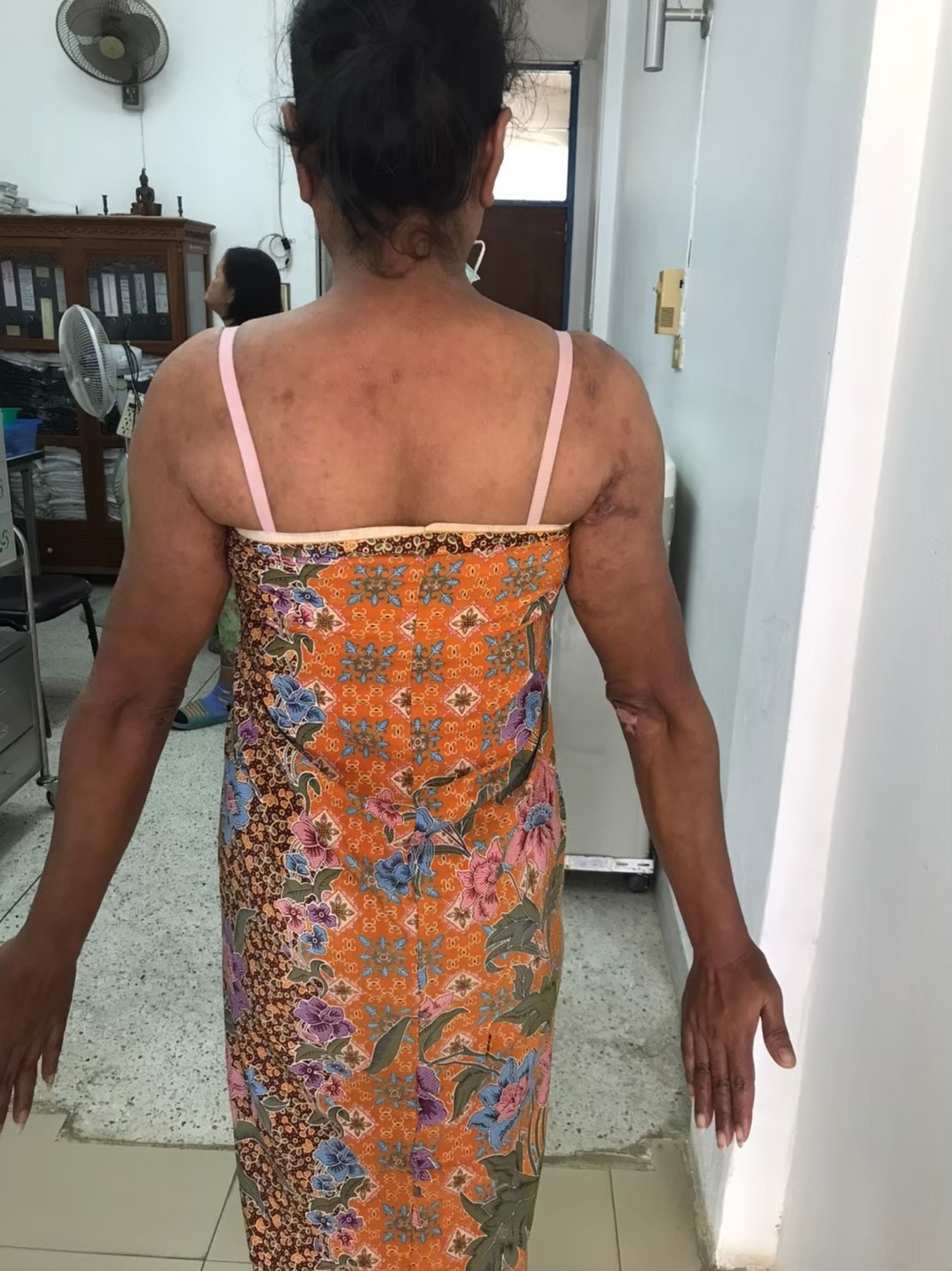Leprosy: (575, 465, 653, 543), (356, 359, 418, 424), (607, 697, 682, 747), (270, 369, 324, 424), (573, 359, 613, 408)
